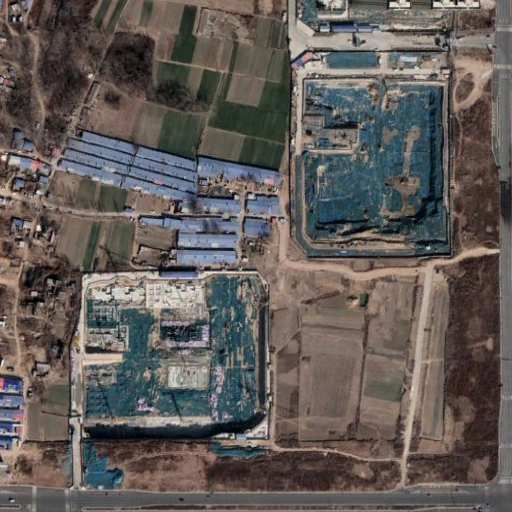cw: (70, 267, 278, 493), (285, 43, 459, 267)
